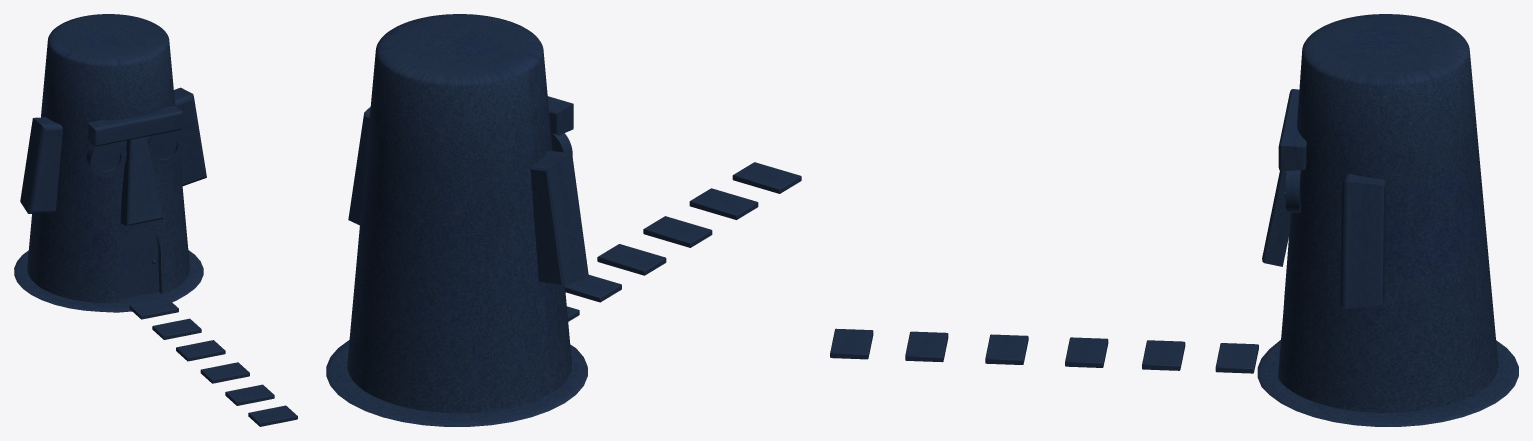
The model's file is CasaCalamardo.obj.
The picture shows the model from 3 angles, left to right: view 1: azimuth 30°, elevation 25°; view 2: azimuth 150°, elevation 25°; view 3: azimuth 270°, elevation 25°; orthographic projection. The views are drawn at different scales.
Visible parts, largest first — view 1: Cylinder_1, Cap_2_1, Base, Cap_2_5, Cap_2_3, Cap_2_2, Cap_2_4, Ear_2, Rounding_2_1, Tube, Cube.2, Cube (+13 smaller); view 2: Cylinder_1, Base, Ear_2, Cap_1_3, Cube.2, Cube.3, Cube.5, Cube.4, Cube.1, Cap_1_2, Eyebrow, Rounding_1_1; view 3: Cylinder_1, Base, Ear1, Nose, Eyebrow, Cube.4, Cube.1, Cube.2, Cube, Cube.3, Cube.5, Rounding_2 (+1 smaller).
Boxes of the visible parts, bbox=[...] form: Cylinder_1: bbox=[27, 14, 189, 302]; Cap_2_1: bbox=[118, 227, 159, 299]; Base: bbox=[14, 250, 203, 312]; Cap_2_5: bbox=[129, 137, 161, 223]; Cap_2_3: bbox=[34, 129, 62, 211]; Cap_2_2: bbox=[175, 100, 203, 183]; Cap_2_4: bbox=[96, 114, 181, 145]; Ear_2: bbox=[20, 117, 59, 213]; Rounding_2_1: bbox=[28, 124, 62, 213]; Tube: bbox=[86, 142, 126, 177]; Cube.2: bbox=[176, 340, 225, 361]; Cube: bbox=[129, 298, 178, 319]; Cylinder_1: bbox=[347, 14, 571, 413]; Base: bbox=[326, 340, 587, 426]; Ear_2: bbox=[532, 151, 587, 285]; Cap_1_3: bbox=[530, 169, 561, 283]; Cube.2: bbox=[597, 244, 666, 275]; Cube.3: bbox=[643, 216, 712, 247]; Cube.5: bbox=[732, 162, 801, 193]; Cube.4: bbox=[689, 188, 758, 219]; Cube.1: bbox=[565, 275, 621, 302]; Cap_1_2: bbox=[349, 116, 369, 224]; Eyebrow: bbox=[547, 96, 573, 135]; Rounding_1_1: bbox=[531, 166, 564, 285]; Cylinder_1: bbox=[1278, 14, 1498, 412]; Base: bbox=[1257, 340, 1518, 426]; Ear1: bbox=[1345, 174, 1383, 308]; Nose: bbox=[1264, 171, 1290, 266]; Eyebrow: bbox=[1281, 89, 1305, 171]; Cube.4: bbox=[905, 331, 948, 362]; Cube.1: bbox=[1142, 340, 1185, 370]; Cube.2: bbox=[1065, 337, 1108, 367]; Cube: bbox=[1215, 343, 1258, 373]; Cube.3: bbox=[985, 334, 1028, 364]; Cube.5: bbox=[830, 328, 873, 359]; Rounding_2: bbox=[1340, 173, 1349, 308].
Size of the model in its own units: 4.3 by 5.75 by 10.92.
